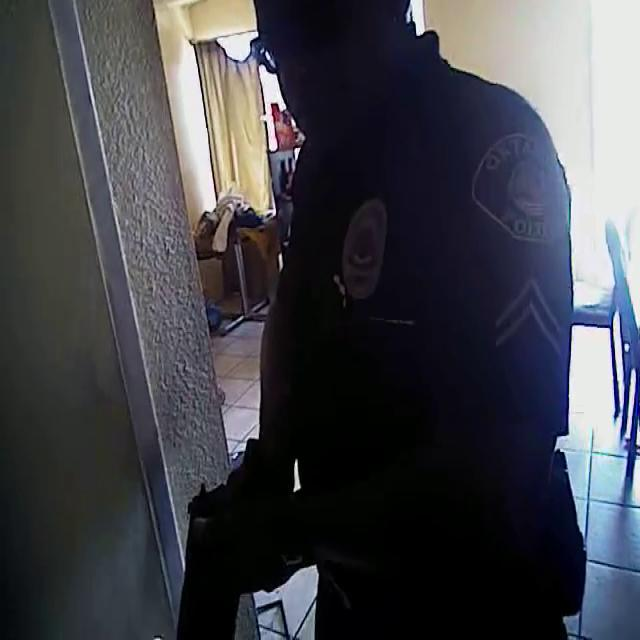gun: (149, 445, 296, 640)
